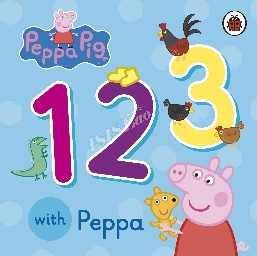Peppa: (158, 156, 249, 256)
